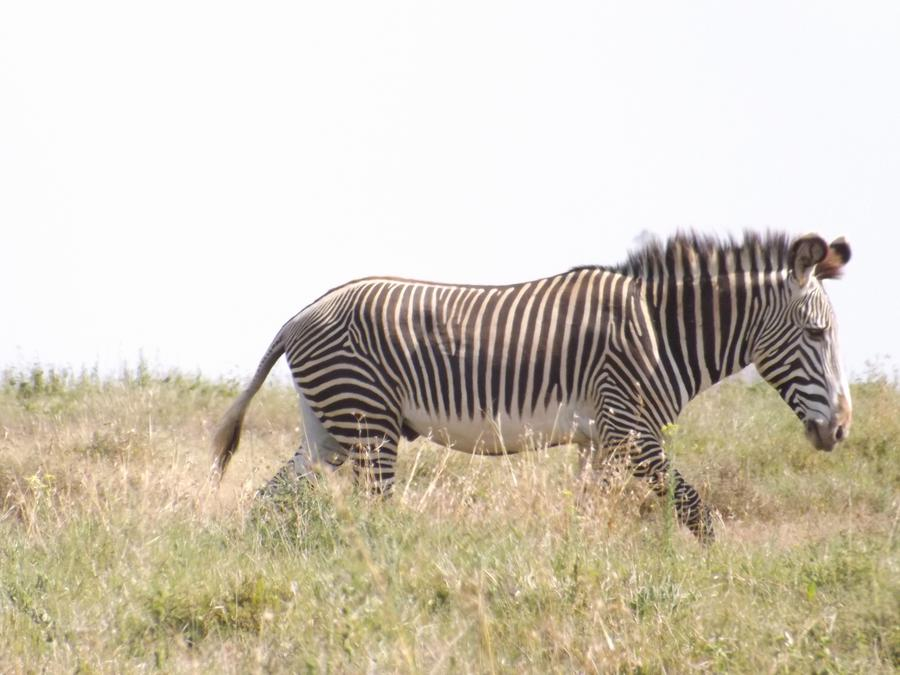zebra_grevys: (265, 256, 668, 434)
